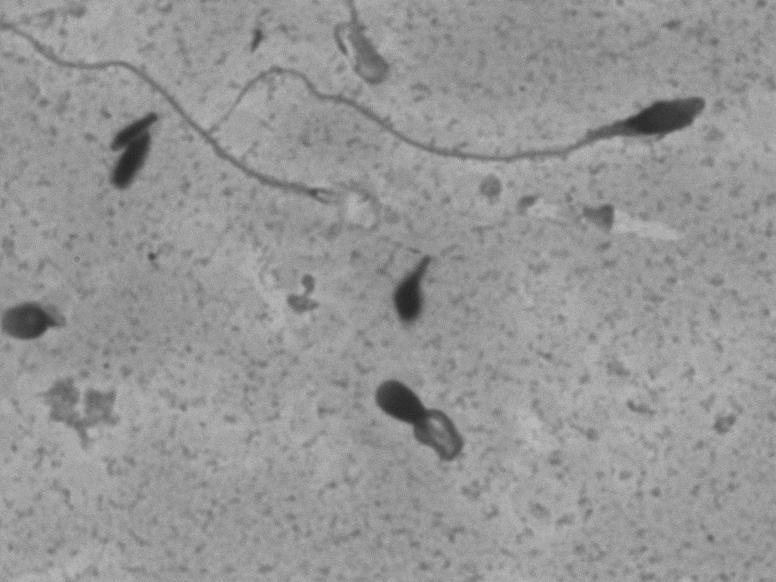Abnormal: (208, 21, 737, 189)
